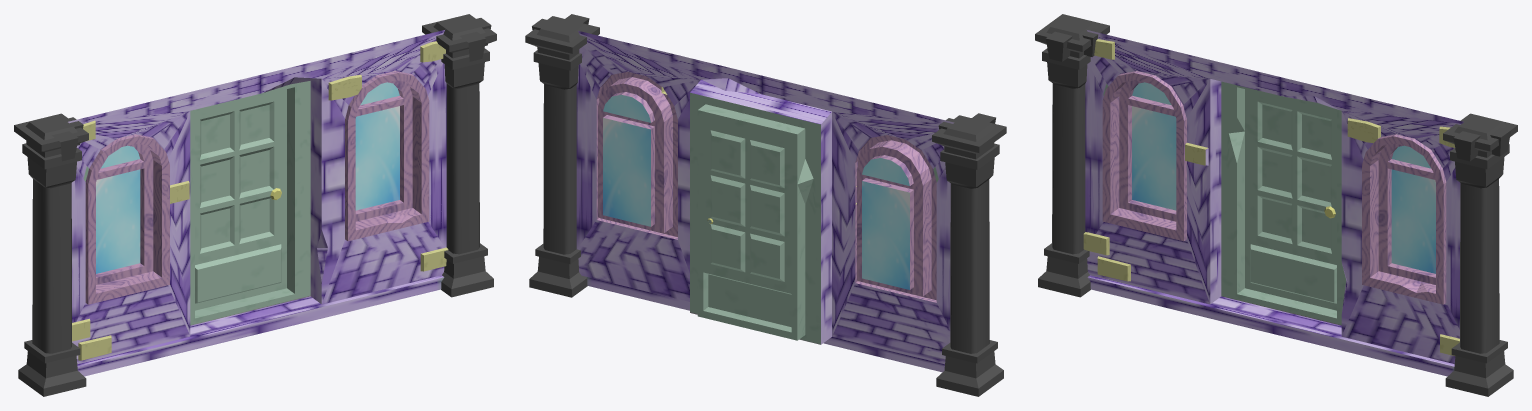
The model's file is House_Front_05_2Pillars_Small.fbx.
3 views of the same model, side by side, from view 1: azimuth 30°, elevation 25°; view 2: azimuth 150°, elevation 25°; view 3: azimuth 330°, elevation 25° (orthographic).
Visible parts, largest first — view 1: House_Door_Short_02; view 2: House_Door_Short_02; view 3: House_Door_Short_02.
Part boxes in pixels (<box>): House_Door_Short_02: <box>14,14,496,396</box>; House_Door_Short_02: <box>525,14,1006,396</box>; House_Door_Short_02: <box>1035,14,1517,396</box>.
Size of the model in its own units: 561 by 302 by 80.95.
